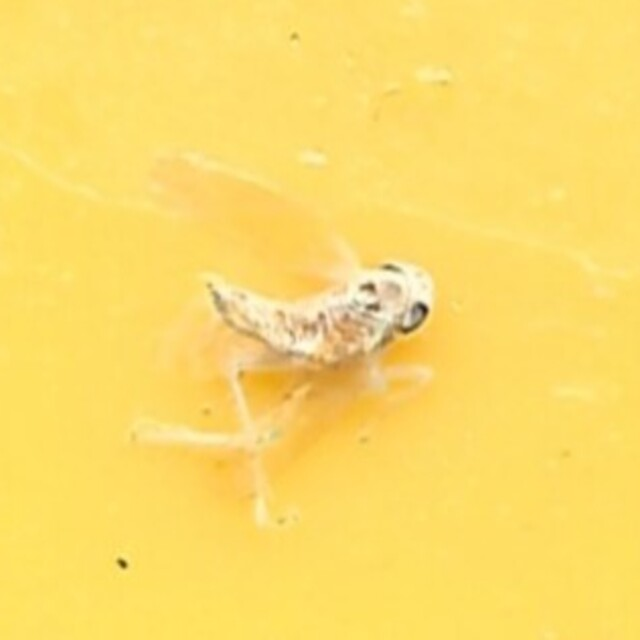Hemiptera: (203, 249, 437, 391)
